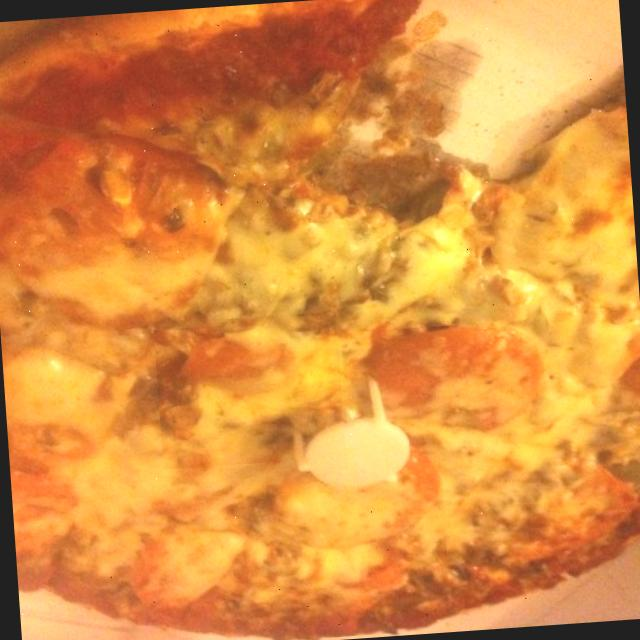pizza: (0, 0, 640, 639)
tomato: (0, 123, 228, 340), (153, 311, 347, 468), (347, 318, 545, 449), (264, 441, 446, 564), (91, 508, 246, 624), (8, 452, 88, 570)
